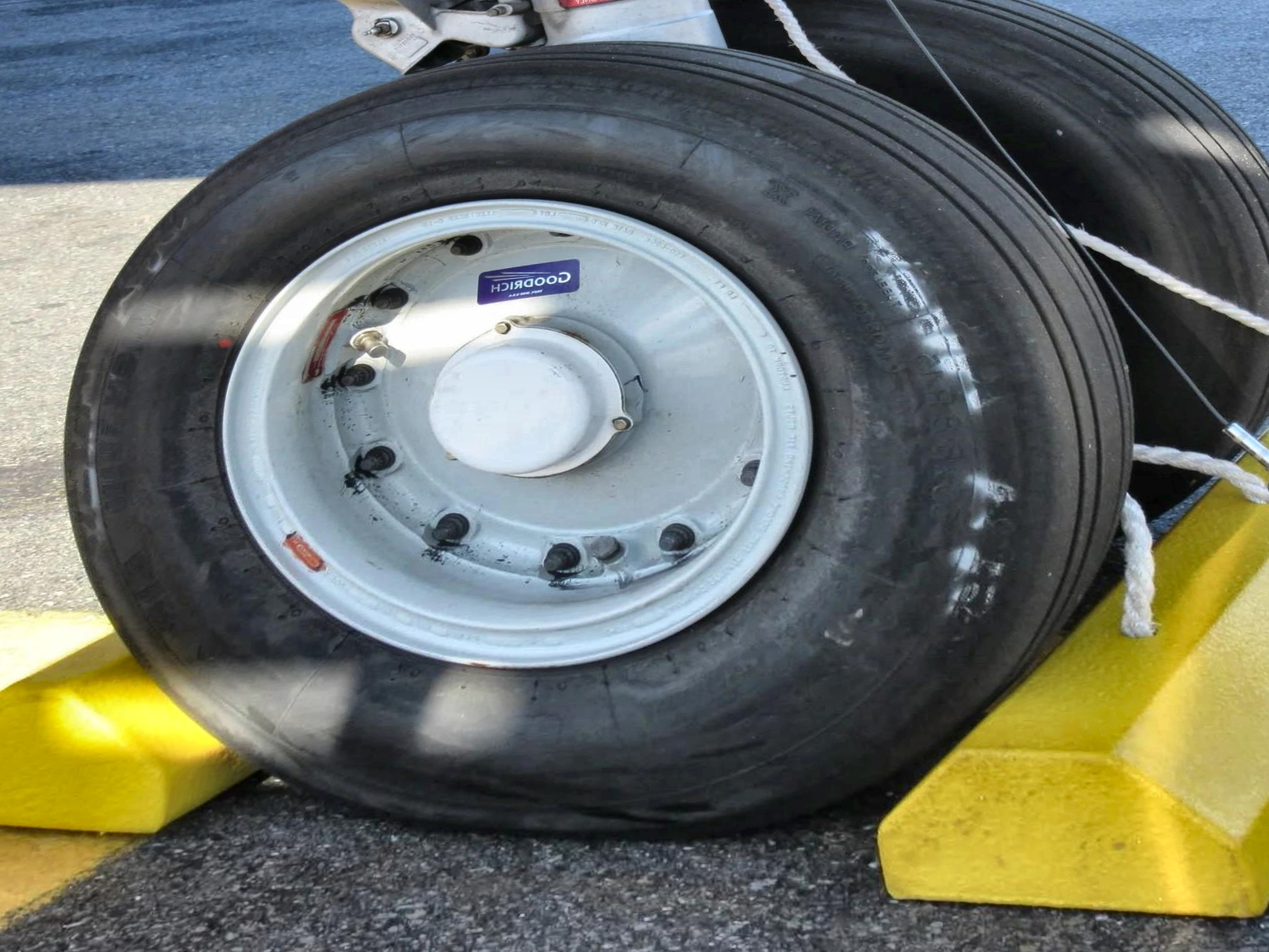chock: (834, 368, 1269, 943), (0, 426, 517, 844)
wheel: (0, 16, 1217, 870), (724, 0, 1269, 502)
